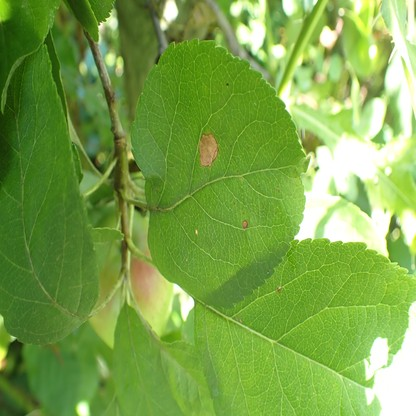frogeye_leaf_spot: (199, 135, 219, 166), (243, 220, 248, 229)
